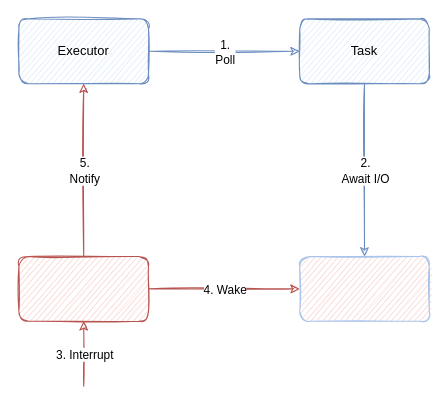
This 448x414 diagram has some shape labels left out. The centre of each missing label's shape, as x and y in pixels:
"Interrupt Handler" belongs at (83,288).
"Peripheral State" belongs at (364,288).
